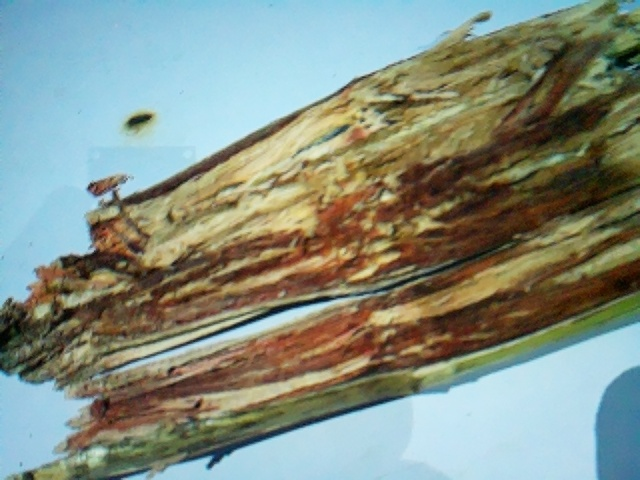Red-Rot: (42, 30, 634, 457)
